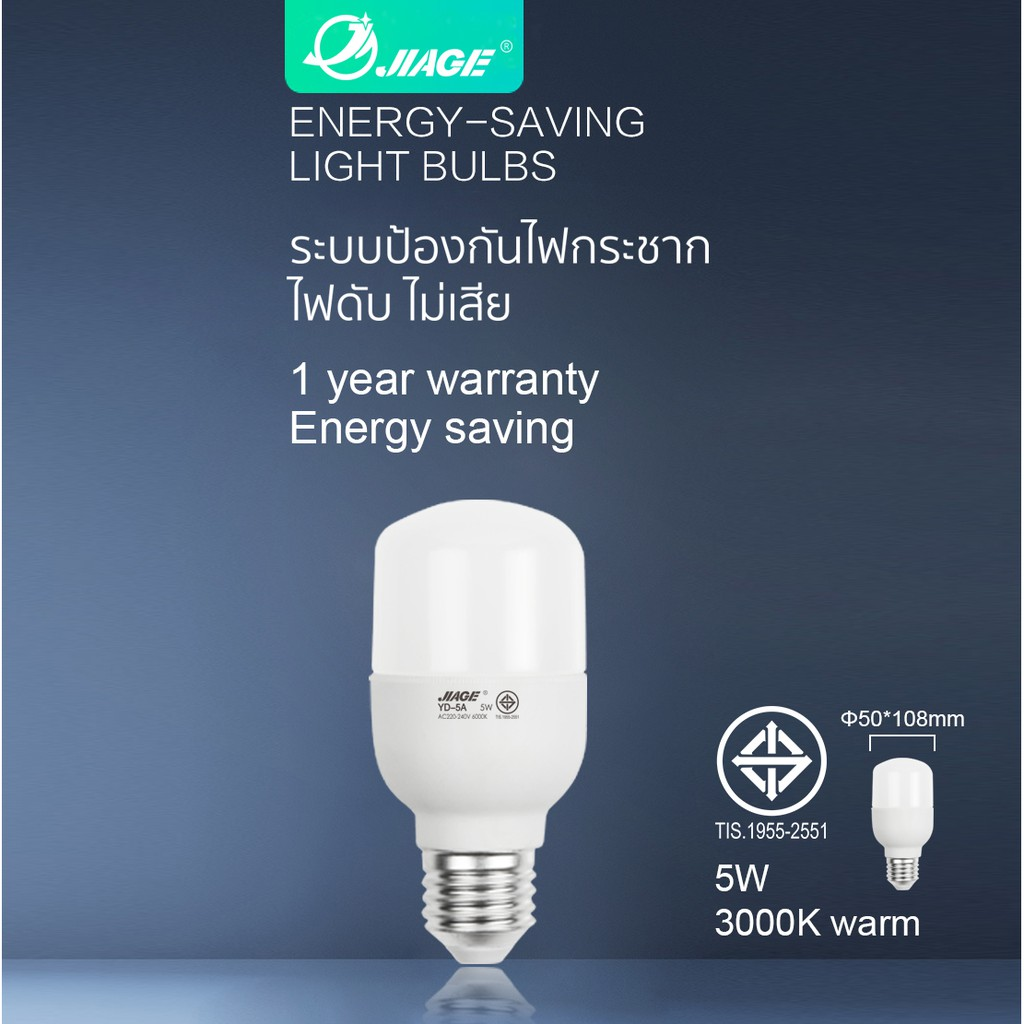Light_bulb: (354, 486, 593, 980), (868, 747, 936, 891)
